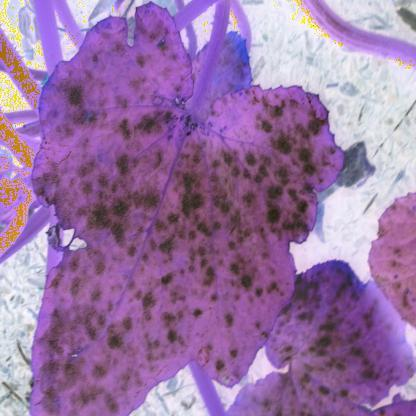Squash Powdery mildew leaf: (26, 8, 350, 416)
